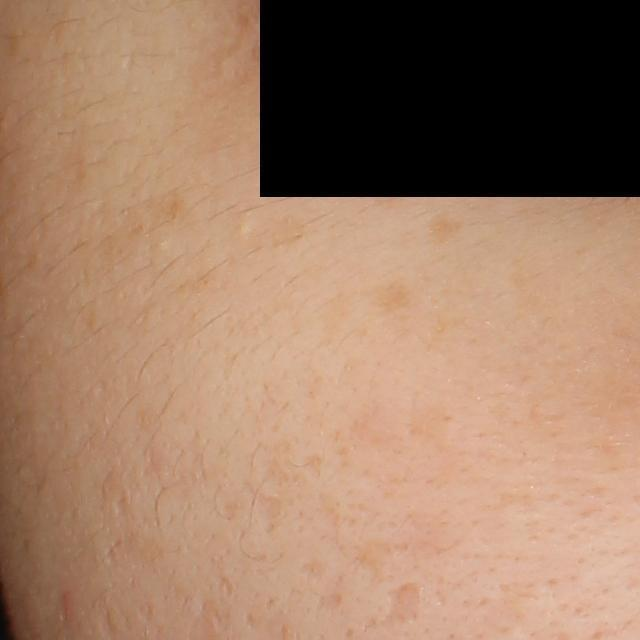atrophic_scar: (360, 576, 425, 636), (249, 485, 287, 535), (218, 576, 234, 595)
melasma: (126, 183, 191, 240), (355, 274, 418, 317), (420, 211, 468, 250)
